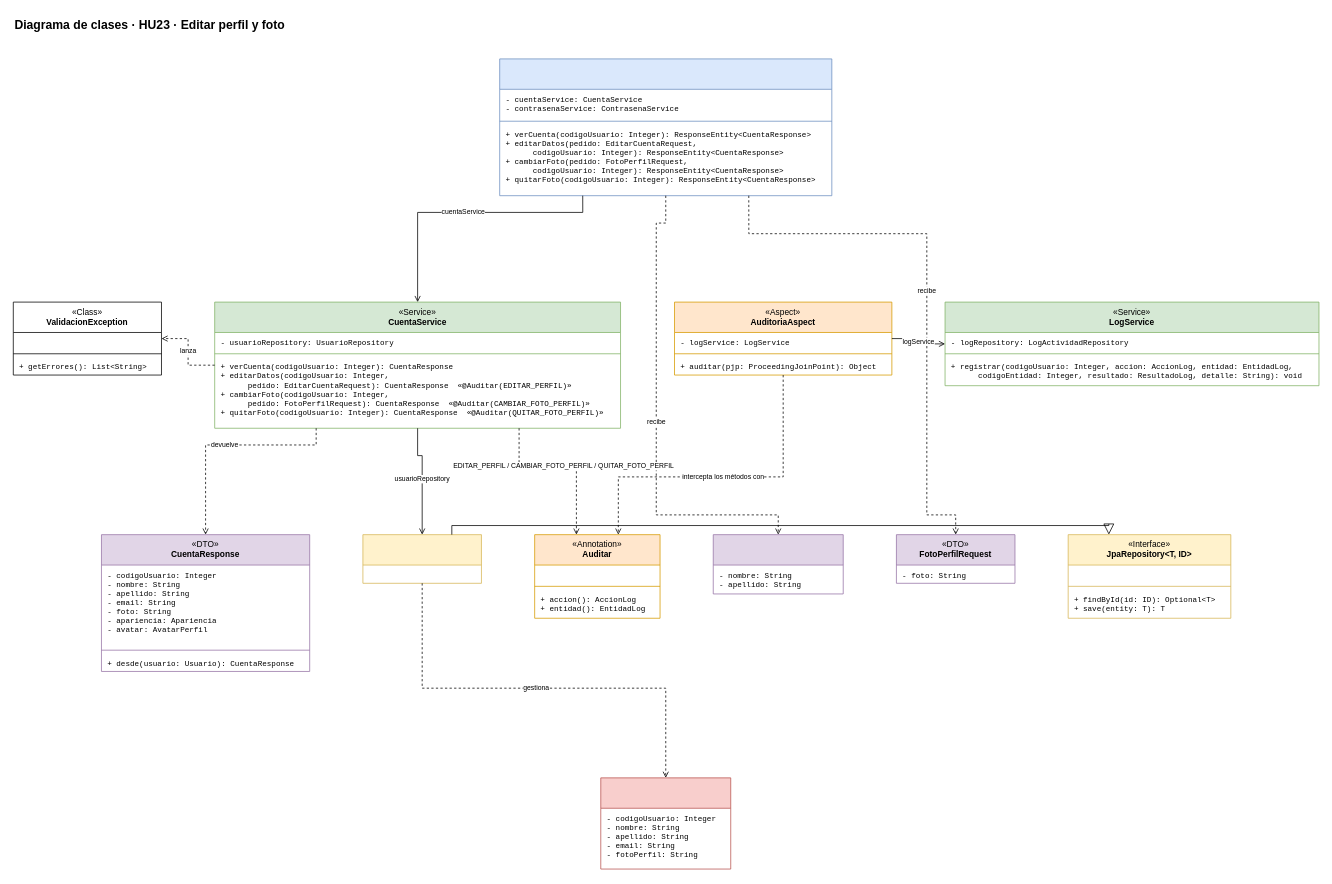
This 1332x884 diagram has some shape labels left out. The shapes that lost their labels are listed below. From the top down, each one's box as (x1, y1, x2, y2) in pixels, then its label:
(499, 58, 832, 196): «RestController» CuentaController
(362, 534, 481, 583): «Repository» UsuarioRepository
(712, 534, 843, 594): «DTO» EditarCuentaRequest
(600, 777, 731, 869): «Entity» Usuario
